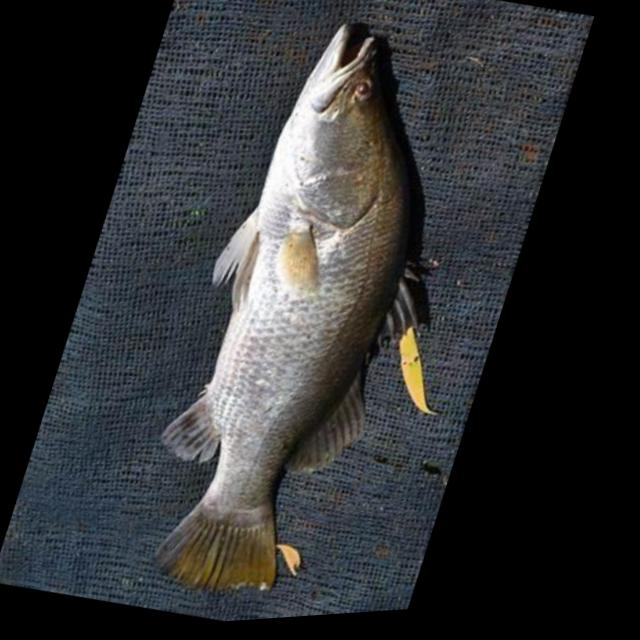Seabass: (112, 0, 517, 627)
